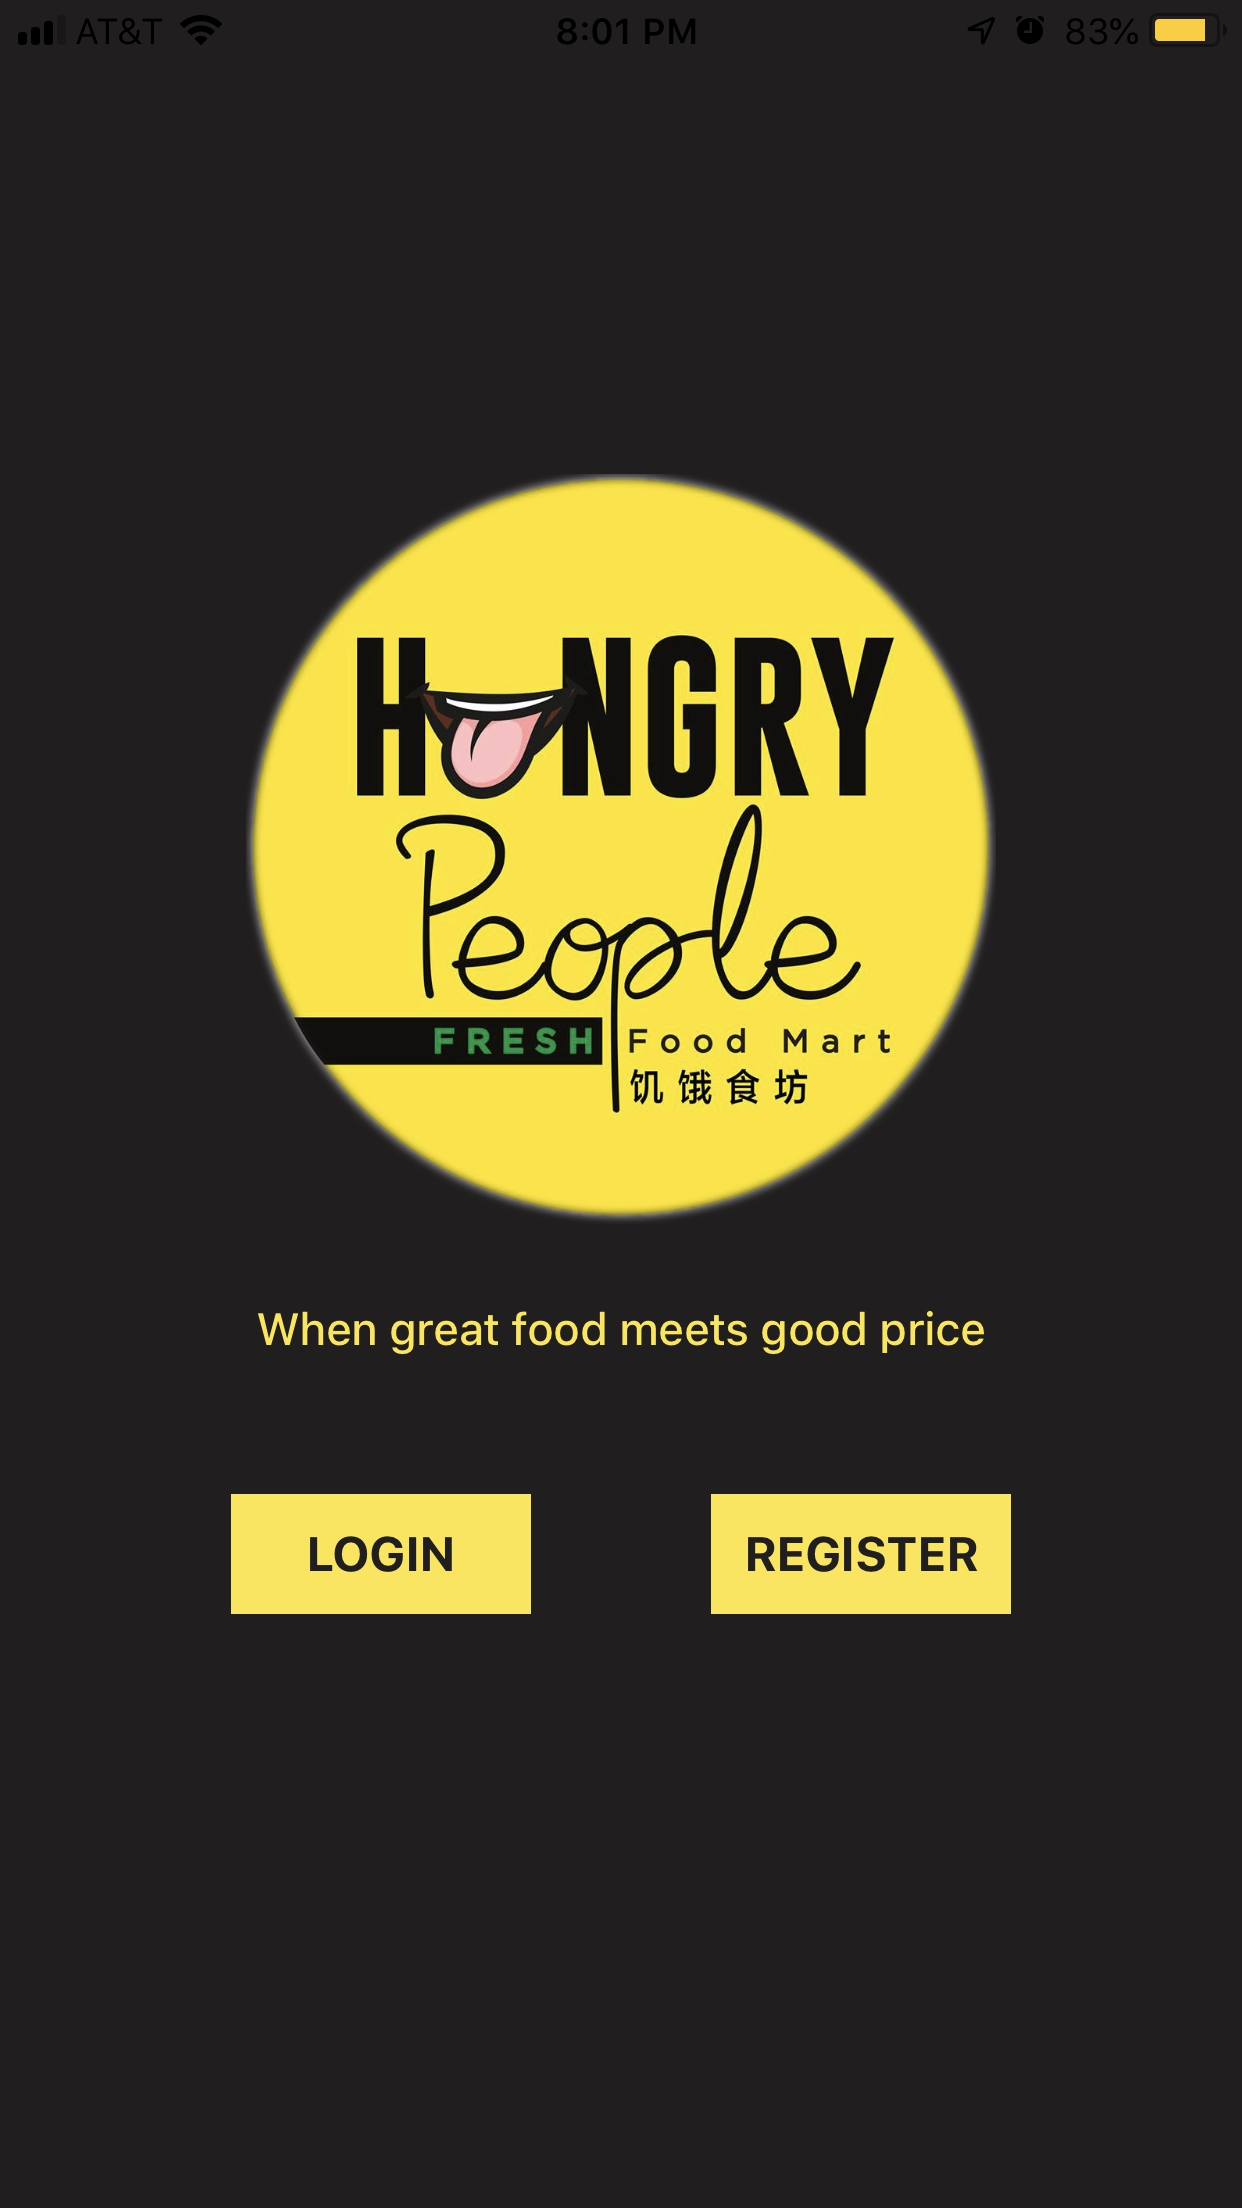Image: (246, 472, 996, 1222)
Text: (256, 1310, 986, 1356)
TextButton: (231, 1494, 532, 1615), (711, 1494, 1011, 1615)
UpperTaskBar: (2, 2, 1242, 49)
